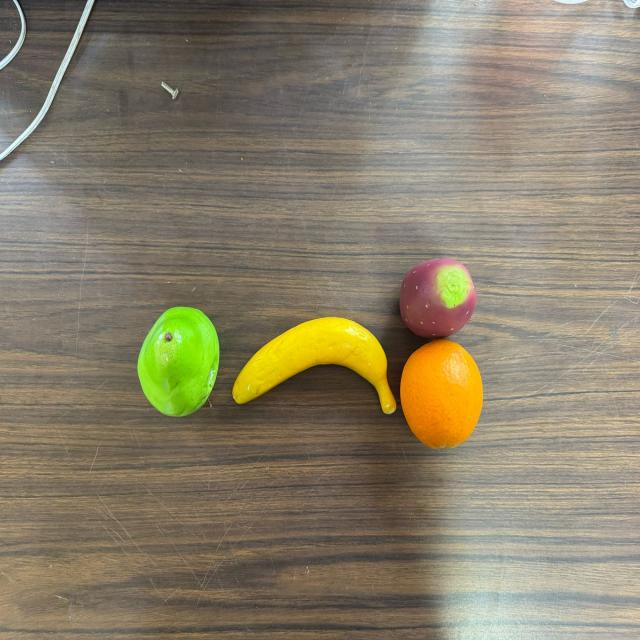banana: (232, 316, 397, 416)
orange: (397, 338, 484, 450)
pear: (137, 305, 220, 419)
tuna: (400, 257, 476, 339)
